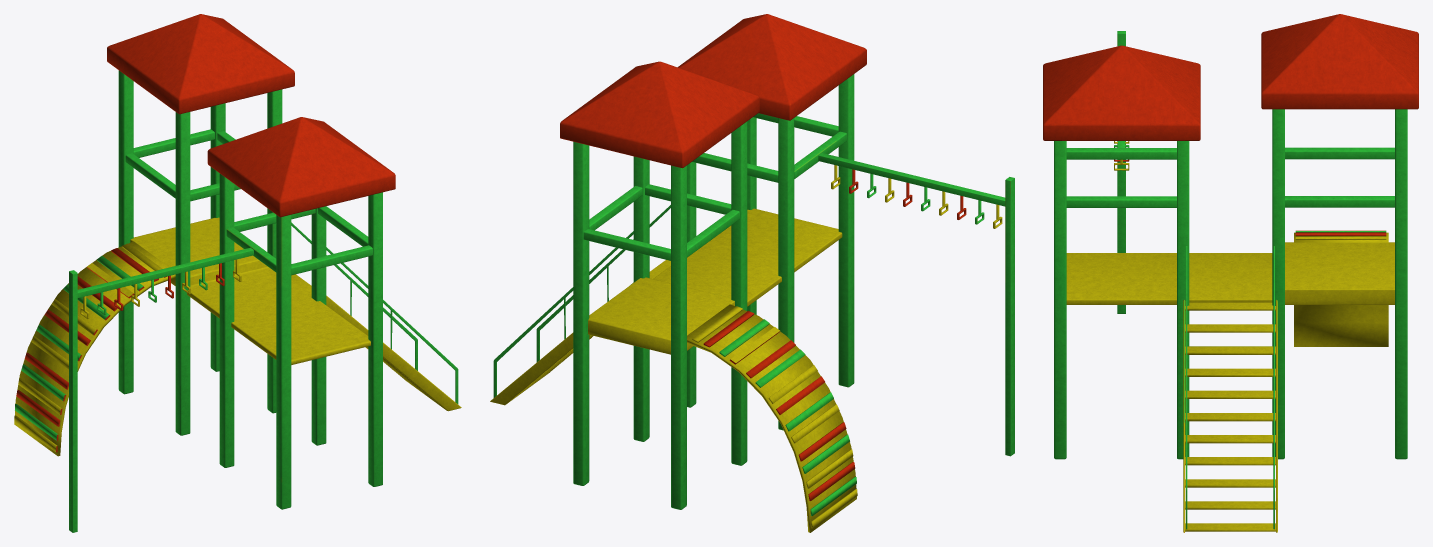
The model's file is climbhouse.glb.
3 renders of one model, left to right at view 1: azimuth 30°, elevation 25°; view 2: azimuth 150°, elevation 25°; view 3: azimuth 270°, elevation 25°, orthographic. The views are drawn at different scales.
Visible parts, largest first — view 1: Climbhouse; view 2: Climbhouse; view 3: Climbhouse.
Part boxes in pixels (left/top/right/bottom): Climbhouse: left=14, top=14, right=461, bottom=532; Climbhouse: left=490, top=14, right=1014, bottom=532; Climbhouse: left=1043, top=14, right=1418, bottom=532.
Size of the model in its own units: 0.6188 by 0.545 by 0.4429.
Materials: 1 (1 with a texture image).
